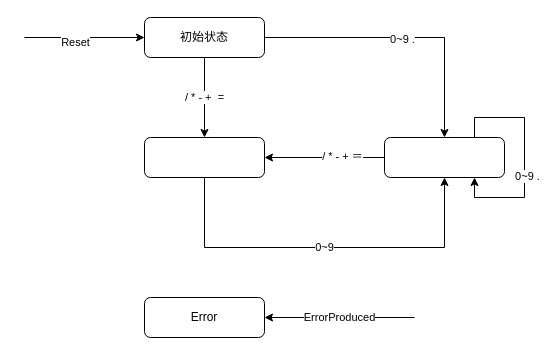
Some shapes in this 557 by 355 pixel diagram are drawn without their labels. Each missing label, with the centre of its shape:
操作数输入: [444,157]
结果显示: [204,157]
